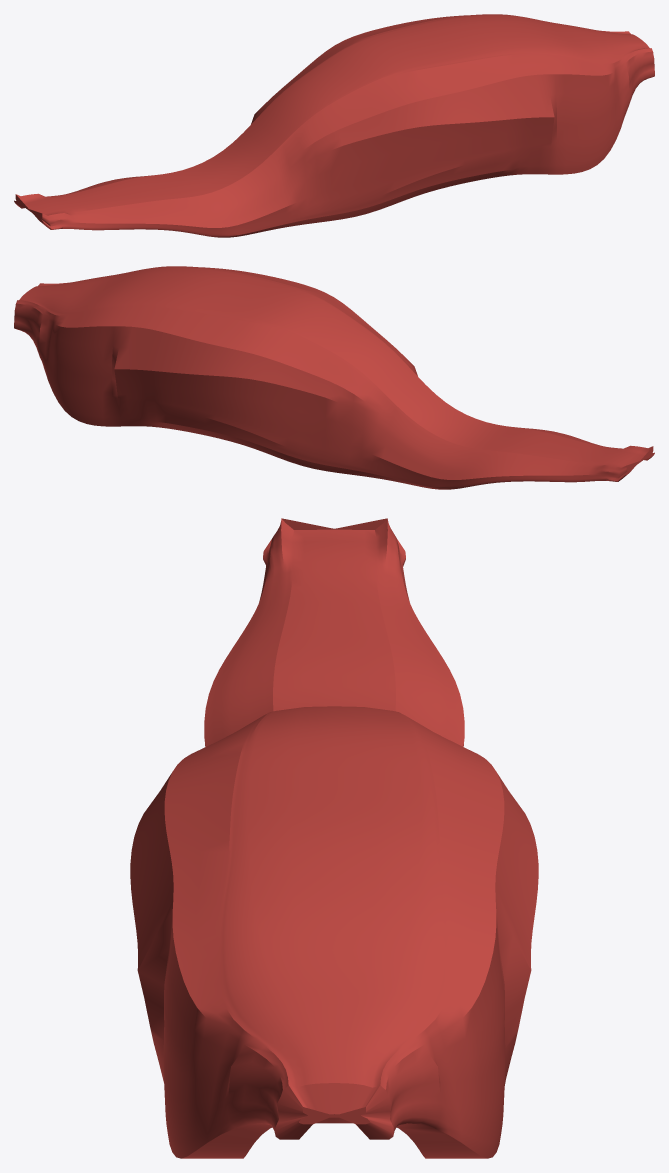
The model's file is adventure_3_lod1.glb.
3 views of the same model, one above another, from view 1: azimuth 30°, elevation 25°; view 2: azimuth 150°, elevation 25°; view 3: azimuth 270°, elevation 25° (orthographic). The views are drawn at different scales.
Visible parts, largest first — view 1: adventure_3_lod1; view 2: adventure_3_lod1; view 3: adventure_3_lod1.
Part boxes in pixels (bbox=[...]): adventure_3_lod1: bbox=[14, 14, 654, 237]; adventure_3_lod1: bbox=[14, 266, 654, 489]; adventure_3_lod1: bbox=[130, 518, 538, 1158].
Bounding box in the file's own units: 1.65 × 0.3264 × 0.4738.
